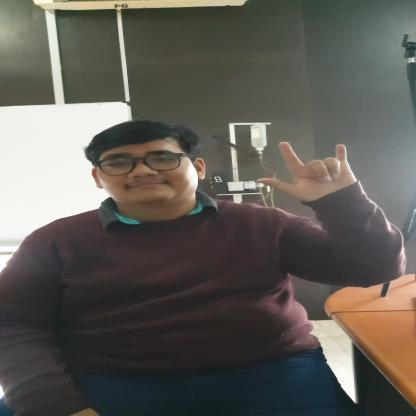ILoveYou: (264, 139, 368, 207)
